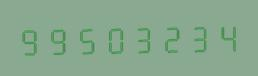five: (73, 20, 100, 56)
four: (213, 18, 240, 54)
nine: (17, 21, 44, 57), (45, 21, 72, 56)
three: (129, 19, 156, 55), (185, 19, 212, 54)
two: (157, 19, 184, 55)
zero: (101, 20, 128, 56)
